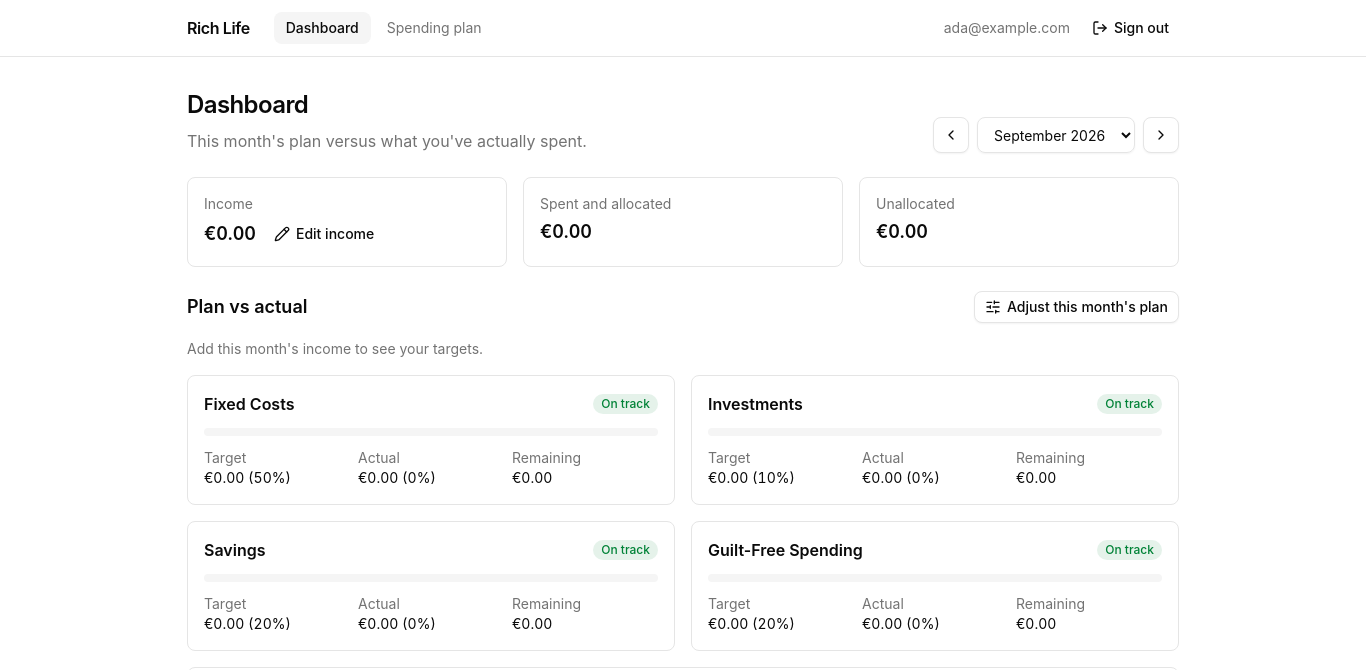
Test case: MonthPlanVsActual › stops asking for the income once one is saved
The width and height of the screenshot is (1366, 670).
Check: the text "Add this month's income to see your targets." is shown, box [187,340,483,357]
Click the button "Edit income" at (324,234), box [264,218,384,250]
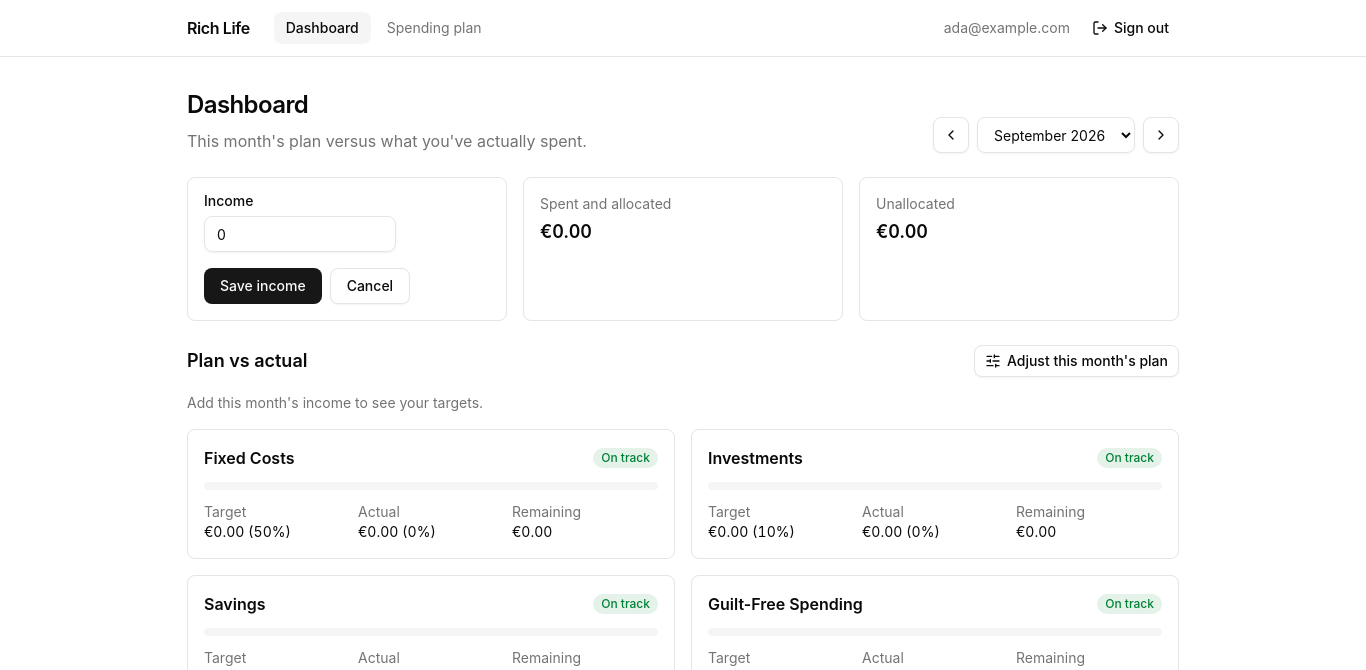
Replace the text in the field labelled "Income" with "3000" at (300,234), box [204,216,396,252]
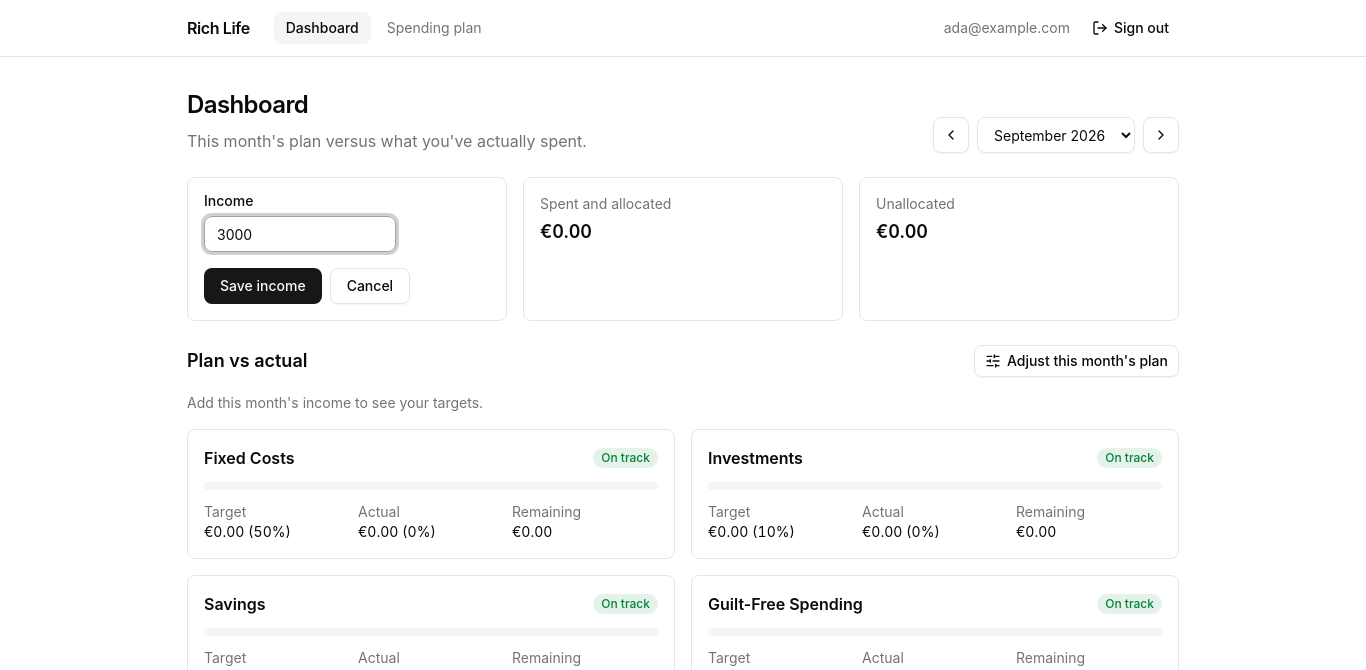
Click the button "Save income" at (263,286), box [204,268,322,304]
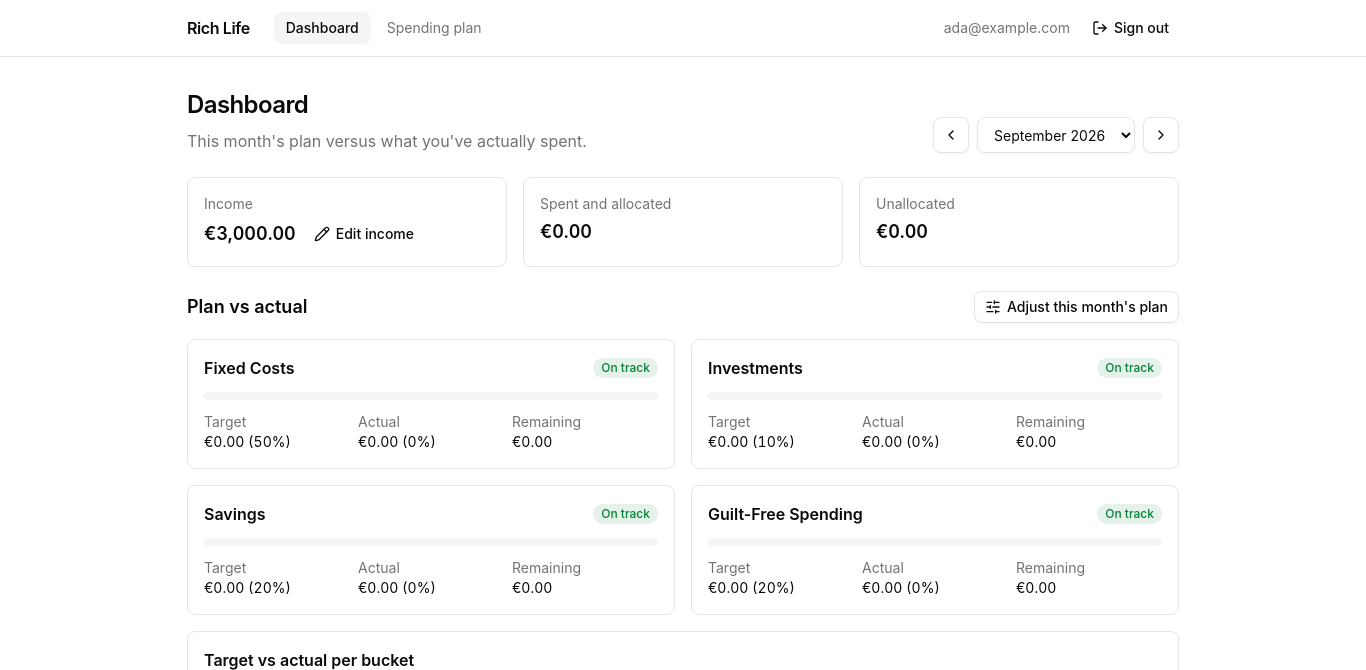
Check: the text "Add this month's income to see your targets." is gone
